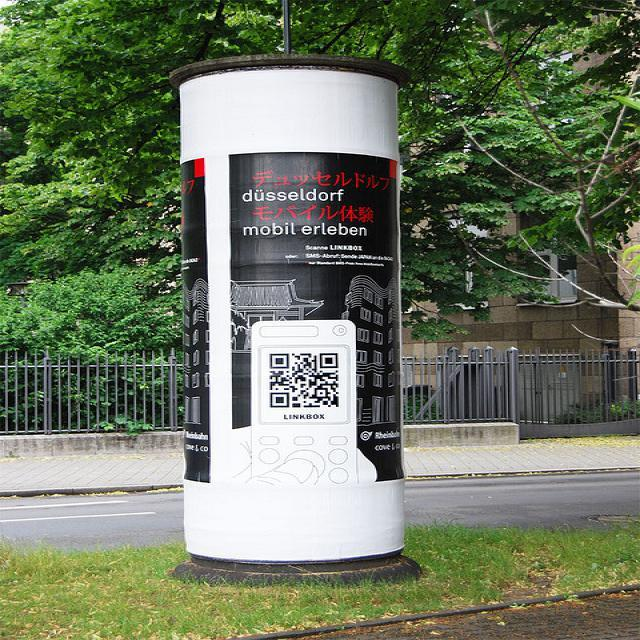qrcode: (271, 354, 339, 408)
